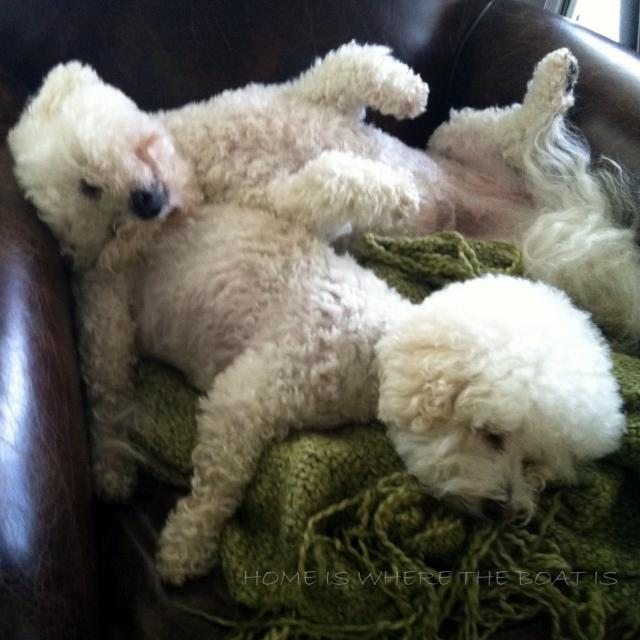laying down: (50, 210, 626, 588), (0, 38, 640, 282)
